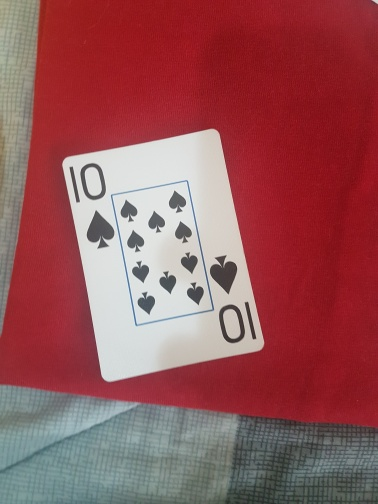ten: (63, 130, 266, 383)
